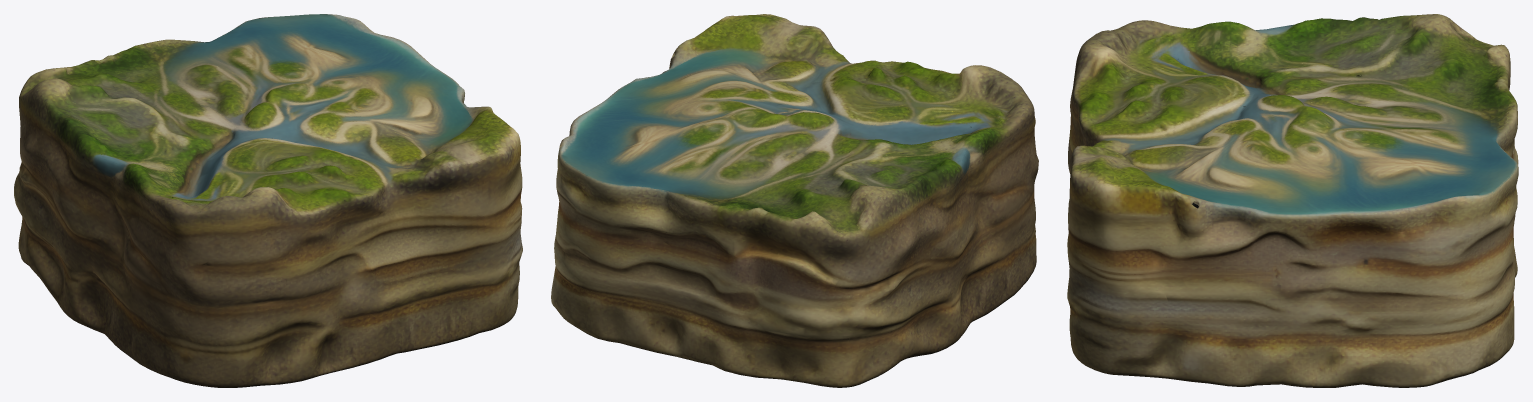
The picture shows the model from 3 angles, left to right: view 1: azimuth 30°, elevation 25°; view 2: azimuth 150°, elevation 25°; view 3: azimuth 270°, elevation 25°; orthographic projection. The views are drawn at different scales.
Visible parts, largest first — view 1: world; view 2: world; view 3: world.
Part boxes in pixels (bbox=[...]): world: bbox=[14, 14, 522, 387]; world: bbox=[551, 14, 1038, 387]; world: bbox=[1067, 14, 1518, 387].
Bounding box in the file's own units: 29.91 × 15.89 × 30.
1 material, 1 textured.
